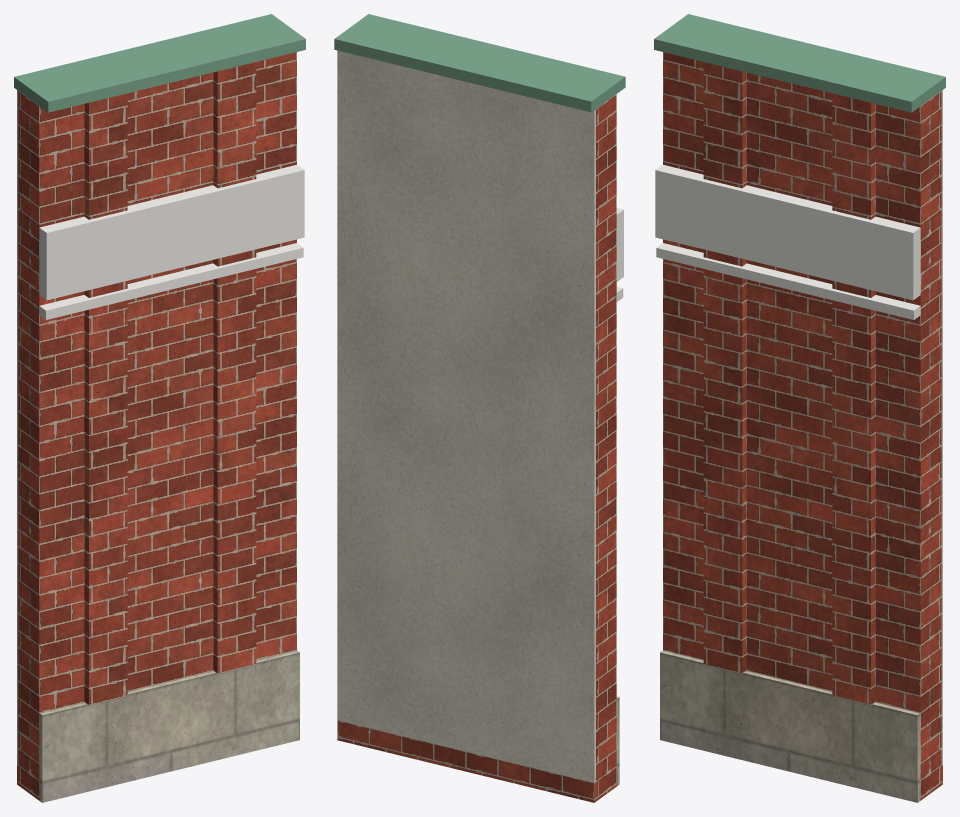
The model's file is wall_brick_ribbed.glb.
The picture shows the model from 3 angles, left to right: view 1: azimuth 30°, elevation 25°; view 2: azimuth 150°, elevation 25°; view 3: azimuth 330°, elevation 25°; orthographic projection.
Visible parts, largest first — view 1: wall_brick_ribbed_brick, wall_brick_ribbed_trim, wall_brick_ribbed_stone, wall_brick_ribbed_coping, wall_brick_ribbed_plaster; view 2: wall_brick_ribbed_plaster, wall_brick_ribbed_brick, wall_brick_ribbed_coping, wall_brick_ribbed_trim; view 3: wall_brick_ribbed_brick, wall_brick_ribbed_trim, wall_brick_ribbed_stone, wall_brick_ribbed_coping, wall_brick_ribbed_plaster.
Boxes of the visible parts, box(x1,y1,x2,y2) form: wall_brick_ribbed_brick: box(17, 52, 296, 800); wall_brick_ribbed_trim: box(39, 165, 304, 319); wall_brick_ribbed_stone: box(39, 650, 299, 802); wall_brick_ribbed_coping: box(14, 14, 305, 112); wall_brick_ribbed_plaster: box(17, 90, 18, 764); wall_brick_ribbed_plaster: box(337, 50, 595, 782); wall_brick_ribbed_brick: box(337, 94, 616, 802); wall_brick_ribbed_coping: box(334, 14, 625, 112); wall_brick_ribbed_trim: box(616, 208, 623, 301); wall_brick_ribbed_brick: box(663, 52, 942, 800); wall_brick_ribbed_trim: box(655, 165, 920, 319); wall_brick_ribbed_stone: box(660, 650, 920, 802); wall_brick_ribbed_coping: box(654, 14, 945, 112); wall_brick_ribbed_plaster: box(941, 90, 942, 764).
Size of the model in its own units: 2 by 5.23 by 0.46.
Materials: 5 (3 with a texture image).
